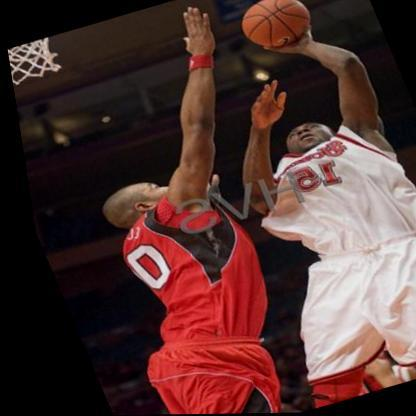basketball: (232, 0, 321, 59)
